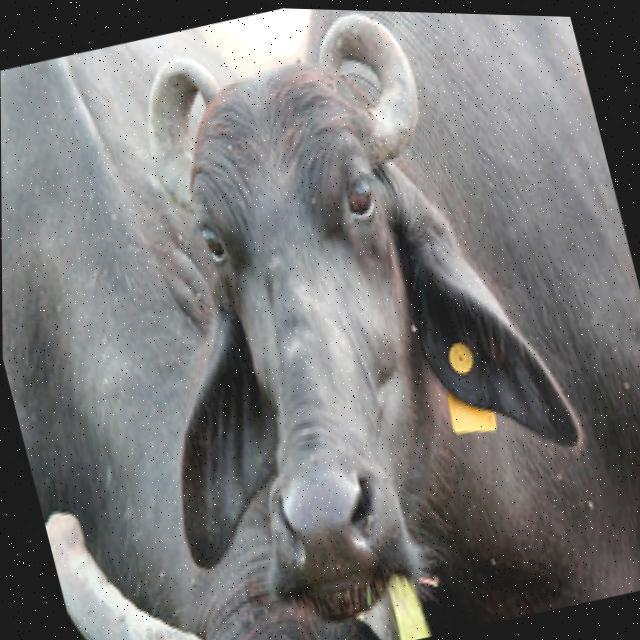Buffalo: (62, 2, 640, 640)
